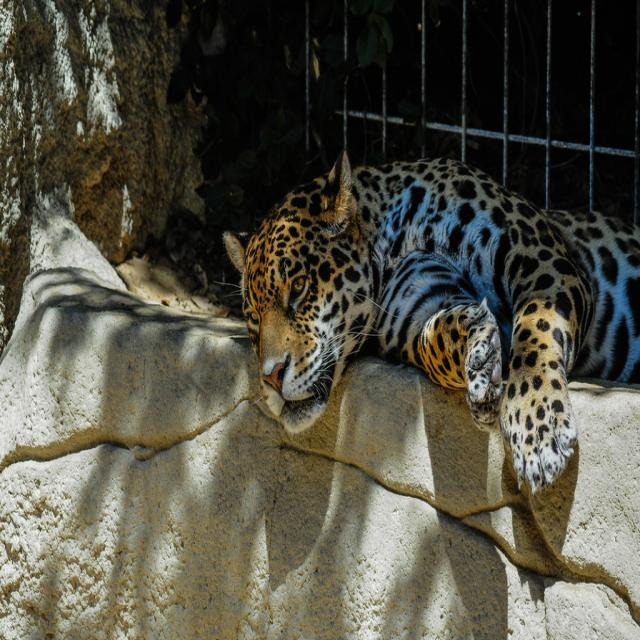cheetah: (226, 95, 622, 502)
